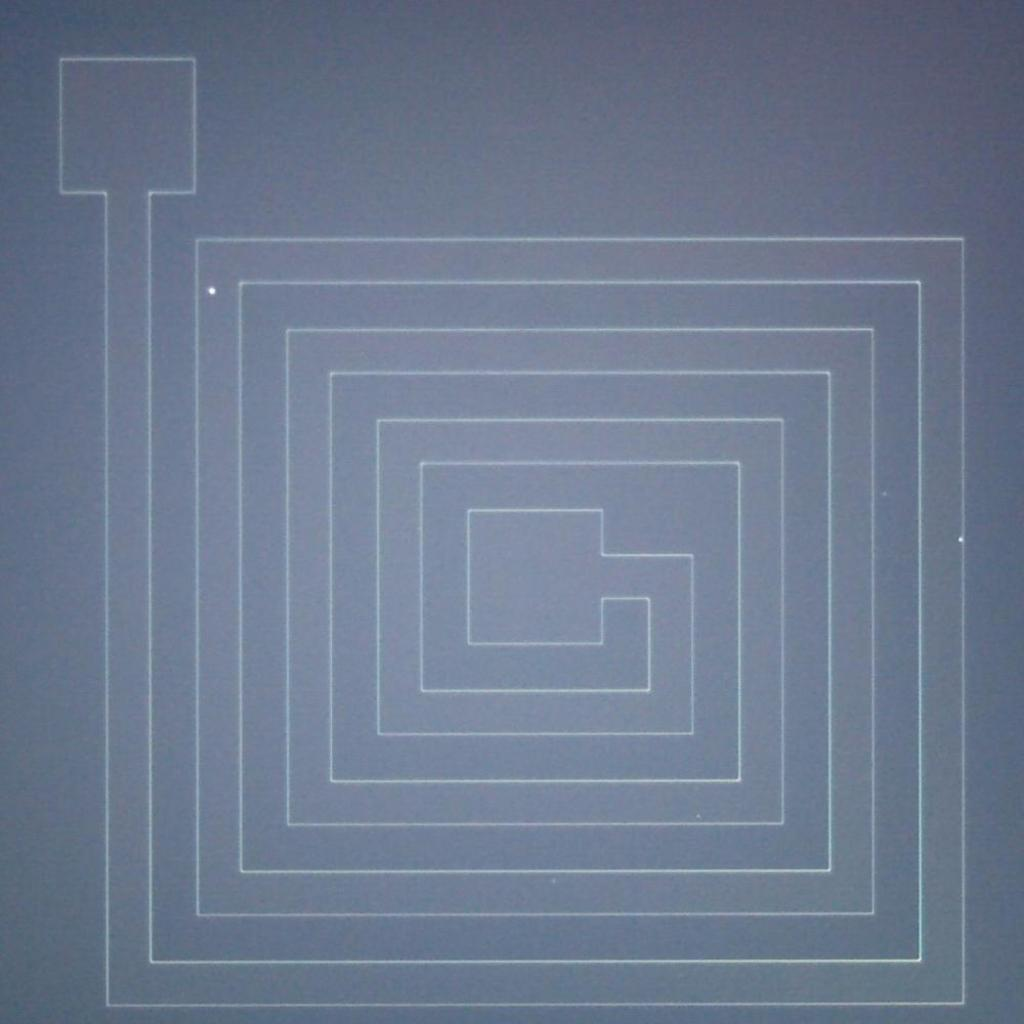dot: (208, 288, 216, 294), (882, 492, 887, 496), (958, 537, 962, 542), (698, 814, 702, 819)
